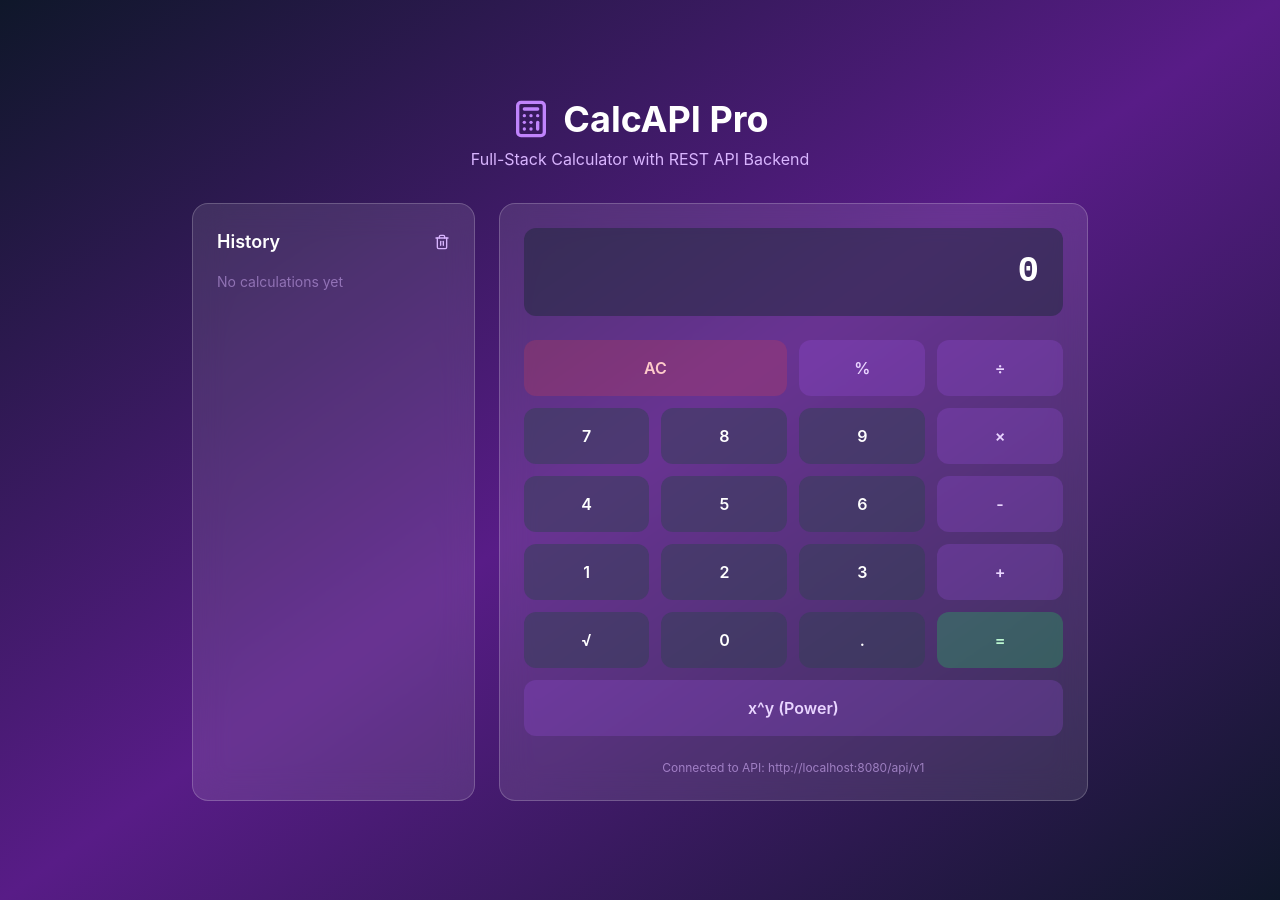
Scenario: Calculator App › performs addition via API
Click the button "1" at (587, 572), box [524, 544, 650, 600]
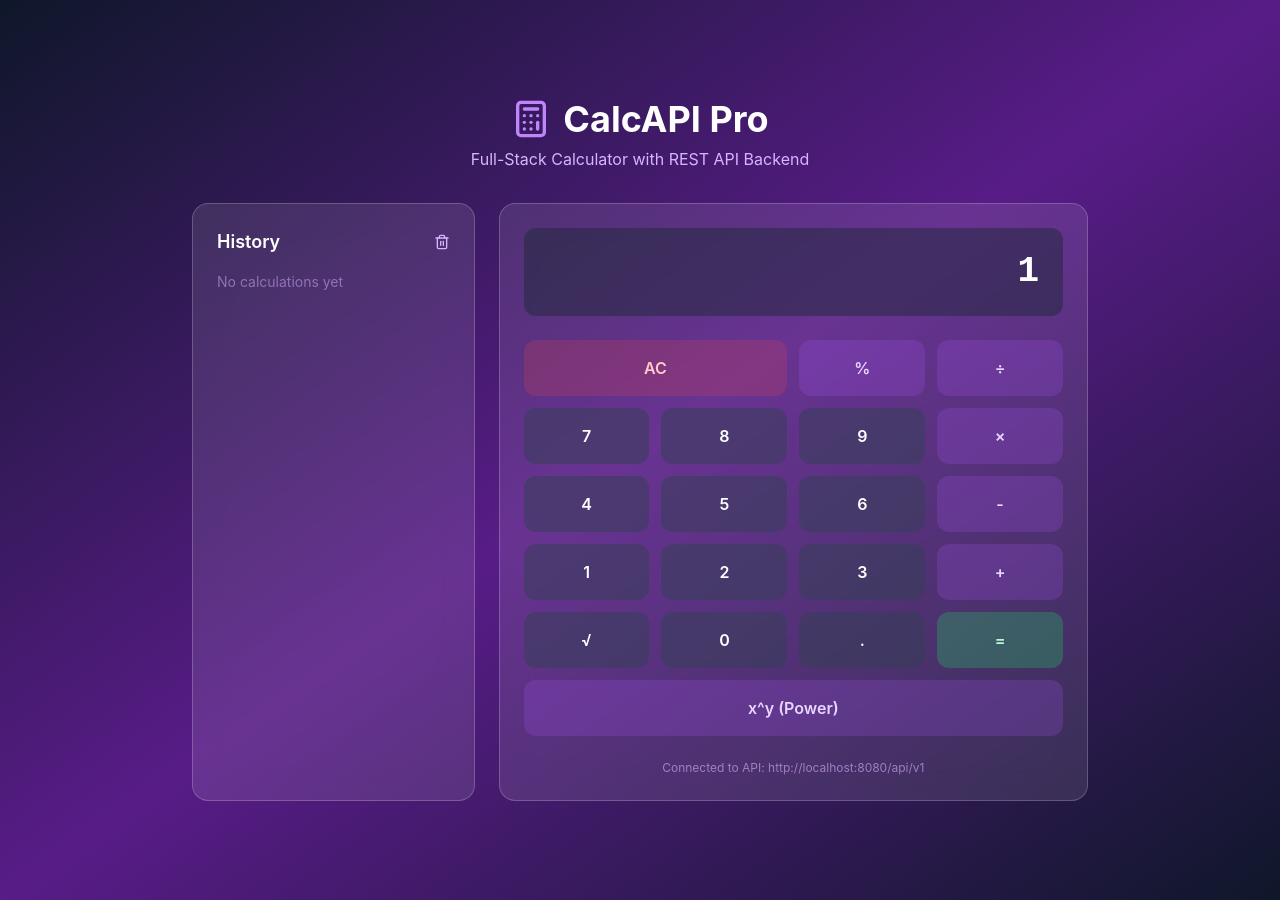
Click the button "0" at (724, 640), box [662, 612, 787, 668]
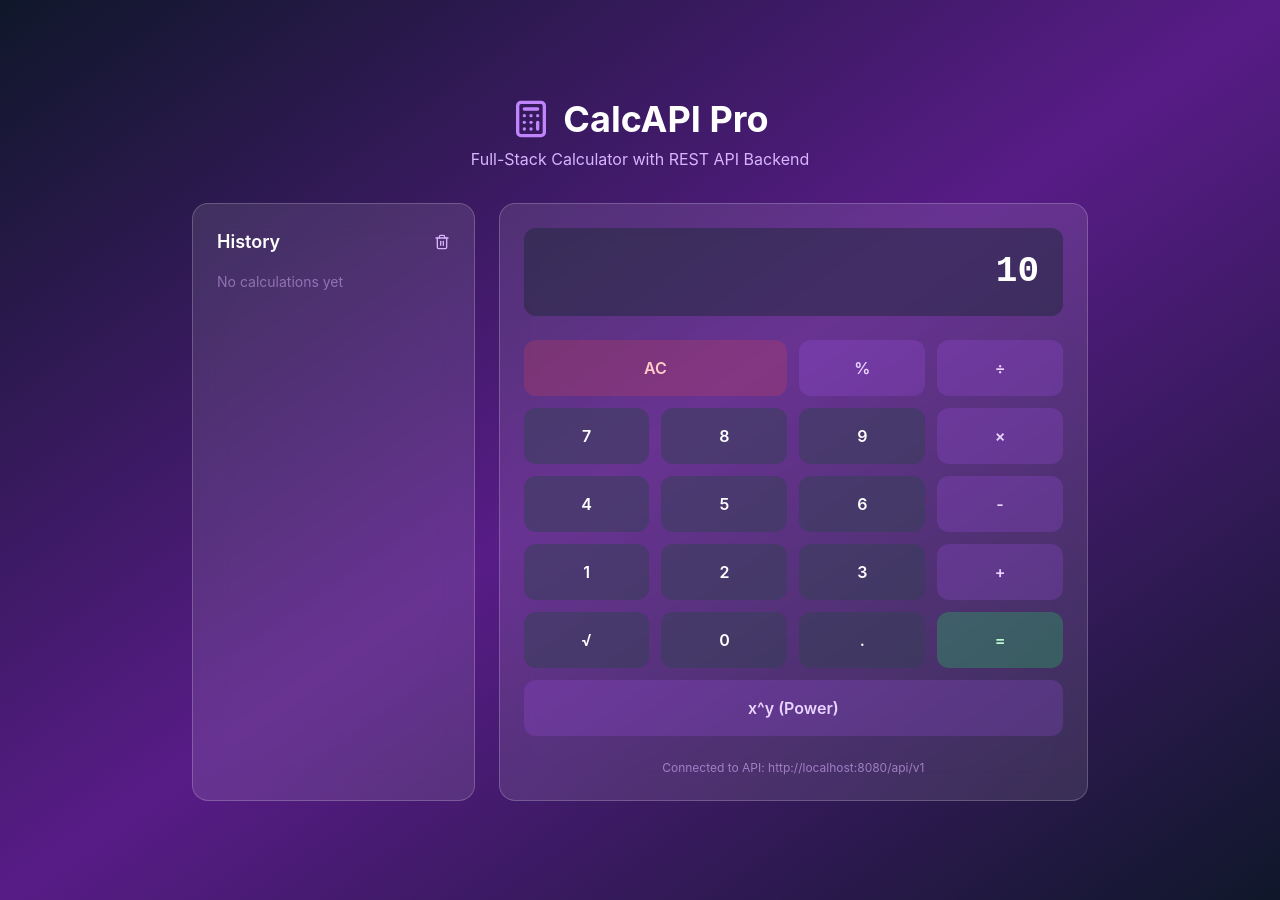
# Click operation button
Click the button "+" at (1000, 572), box [937, 544, 1063, 600]
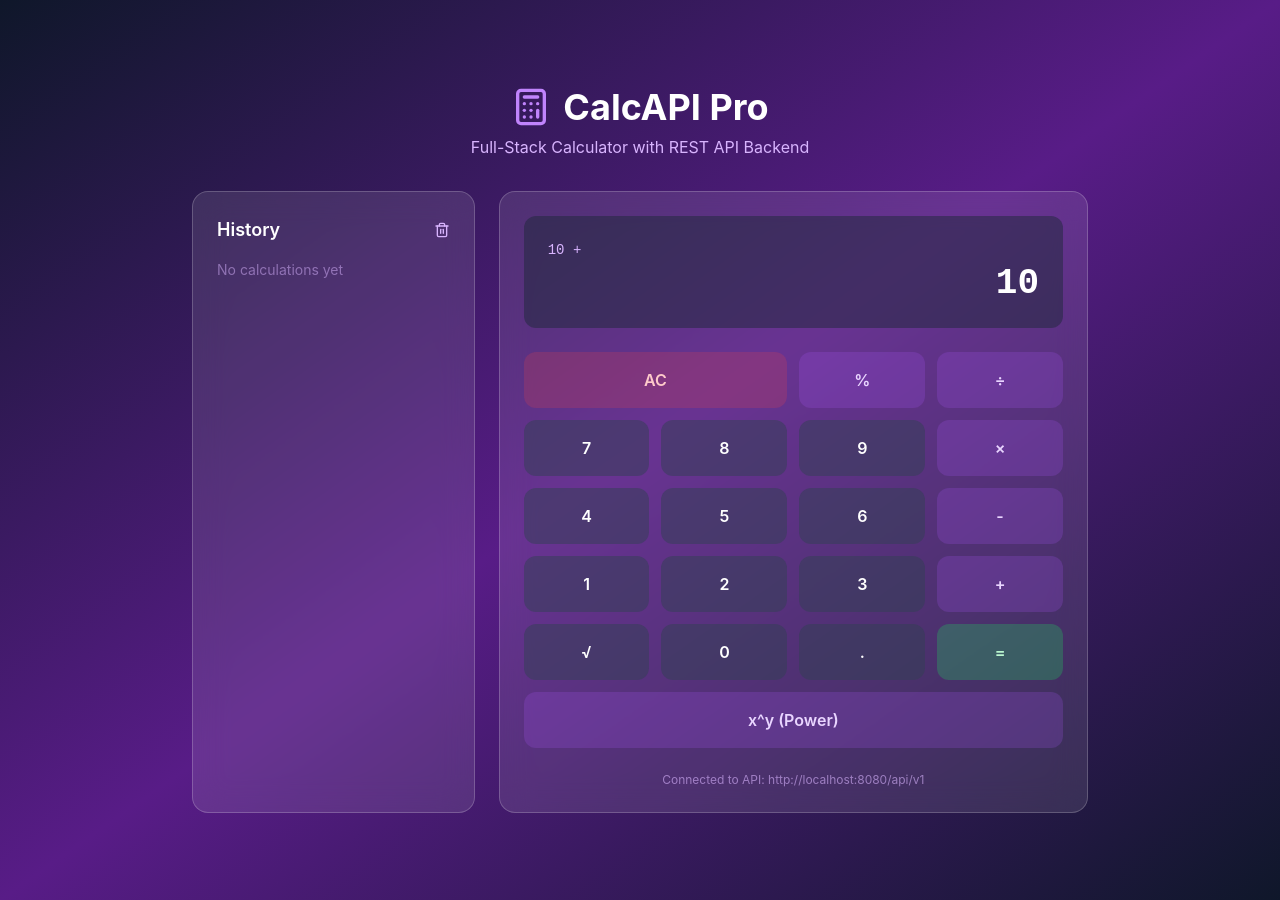
# Click second number
Click the button "5" at (724, 516), box [662, 488, 787, 544]
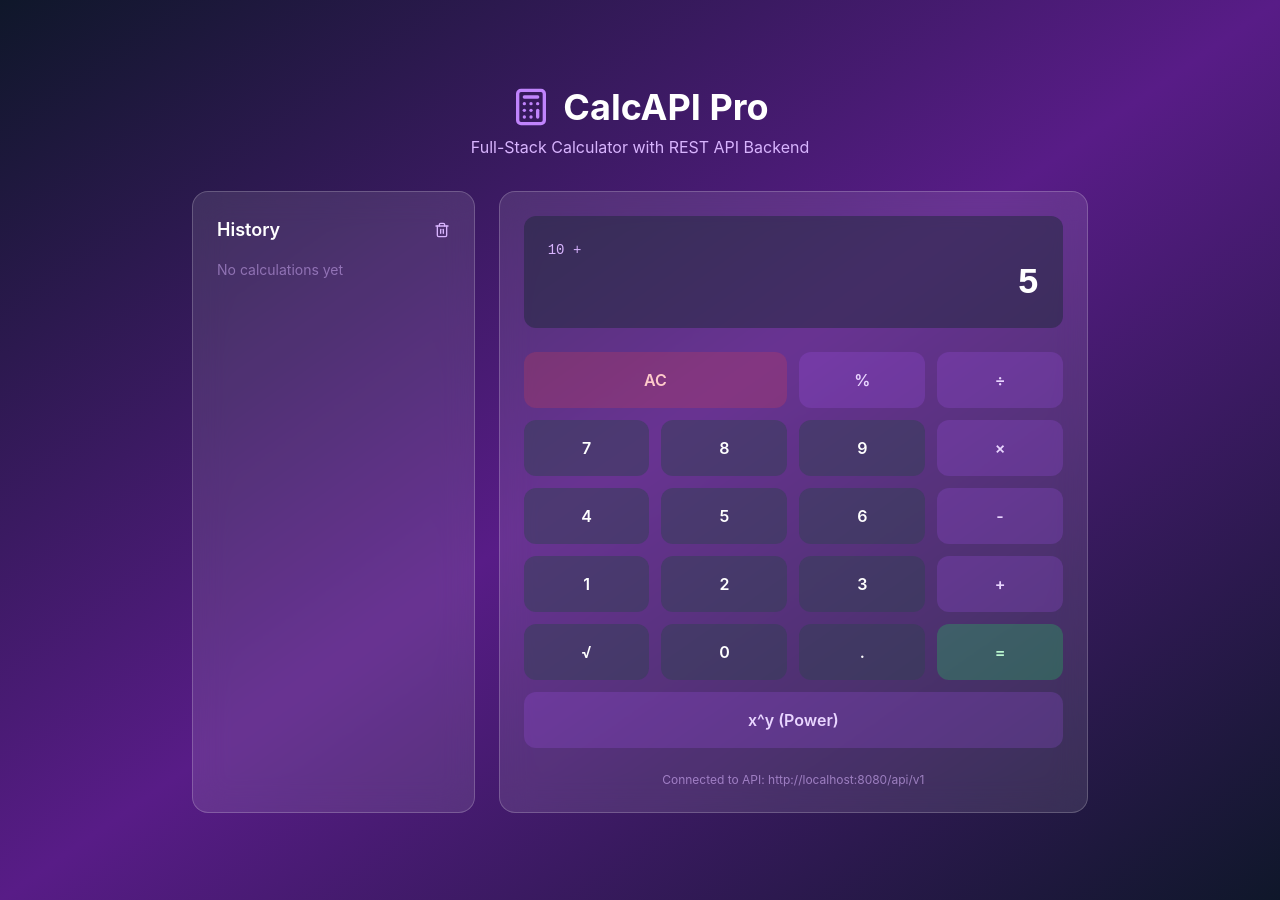
# Click equals
Click the button "=" at (1000, 652), box [937, 624, 1063, 680]
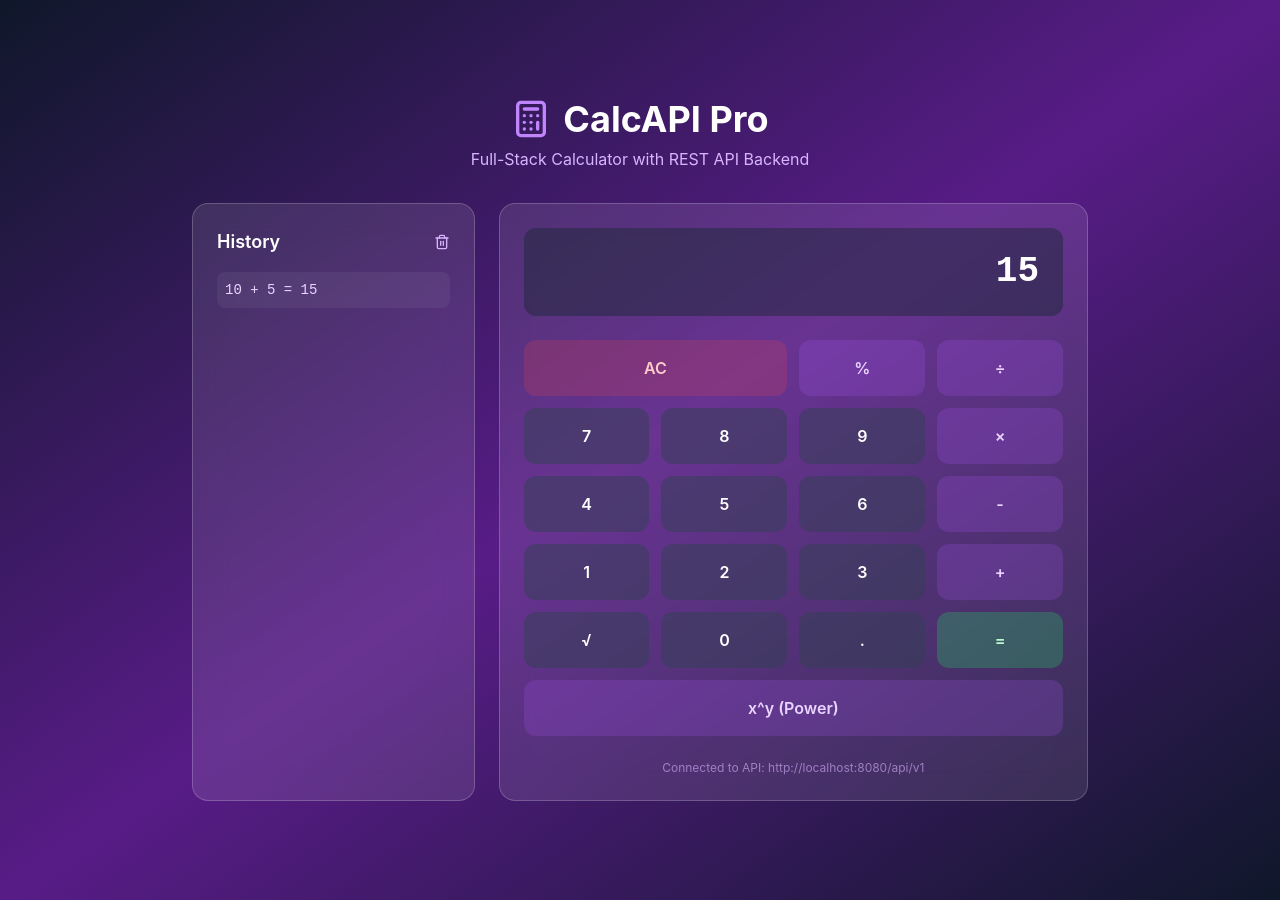
Now the text "15" is shown, box [996, 251, 1039, 292]
